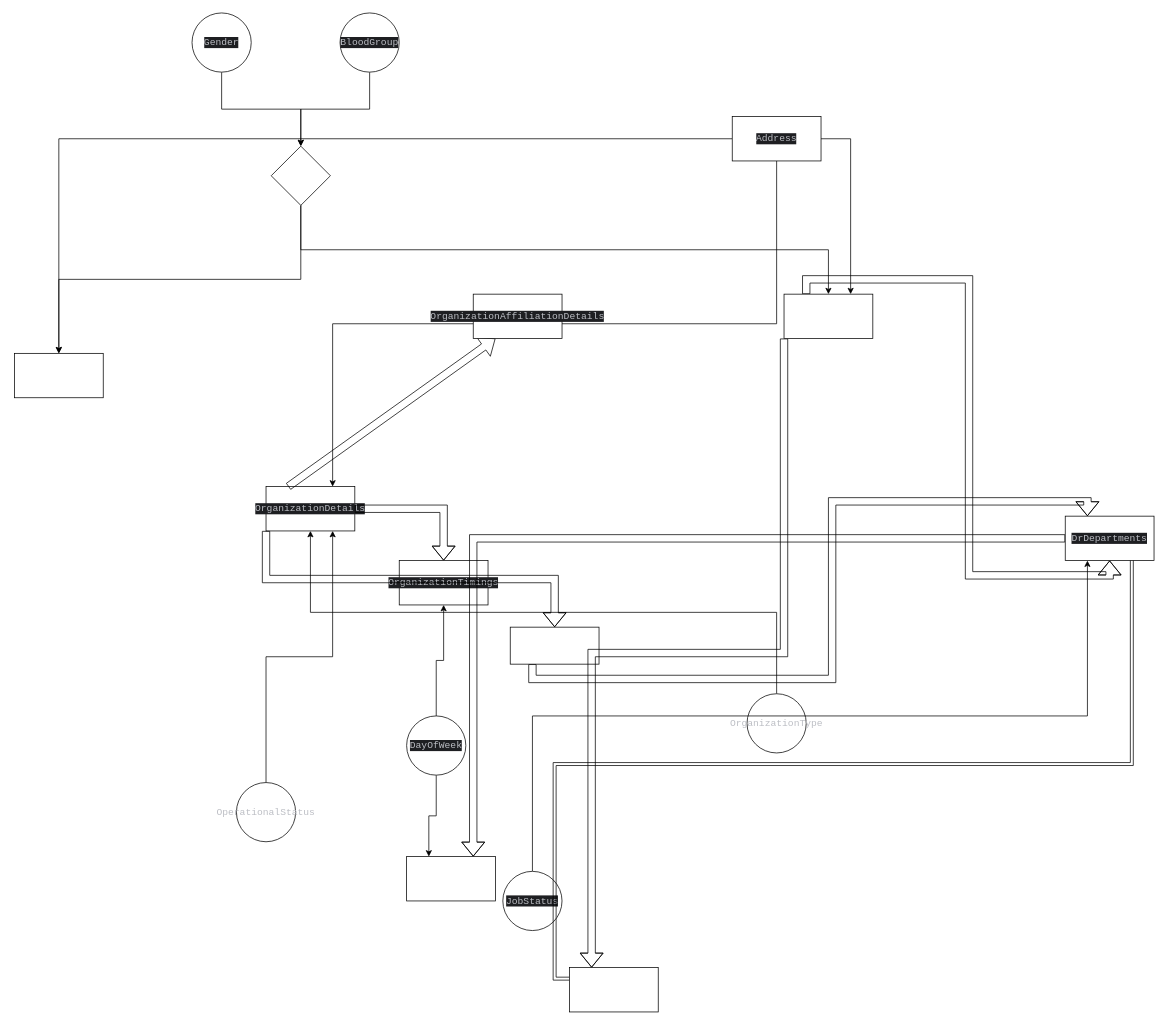
Some shapes in this 1167 by 1025 pixel diagram are drawn without their labels. Here are the shapes that lost their labels. From the top down, the box of each, then its label:
(270, 145, 330, 205): GeneralUserDetails
(783, 293, 873, 339): Doctor
(14, 353, 103, 398): AdminUserDetails
(509, 626, 599, 664): Departments
(406, 856, 495, 901): DrDepartmentsTimings
(569, 967, 658, 1012): Qualifications
